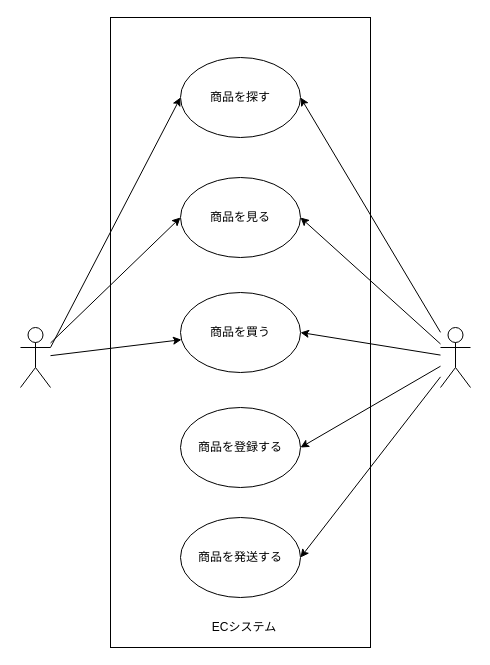
Image size: 490x665. Some labels were removed from this diagram. The shapes that lost their labels are listed below. From the top down, each one's box as (x1, y1, x2, y2) in pixels, then its label:
(20, 326, 50, 388): 購入者
(440, 326, 470, 388): 管理者
